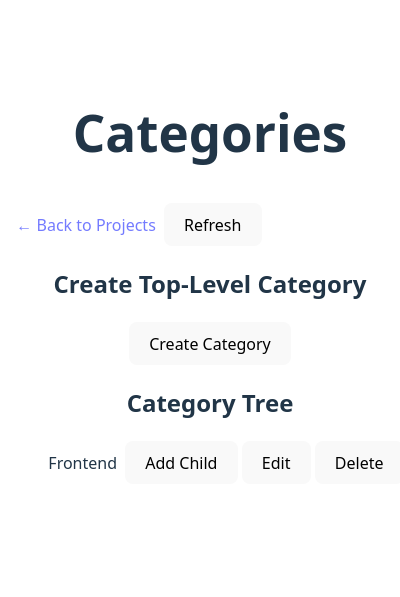
Test case: Categories page › creates a child category
expect the text "Frontend" is shown: met, box left=48, top=451, right=117, bottom=475
Note: Click "Add Child" on parent
Click the button with aria-label "Add subcategory to Frontend" at (181, 463), box left=125, top=441, right=238, bottom=484
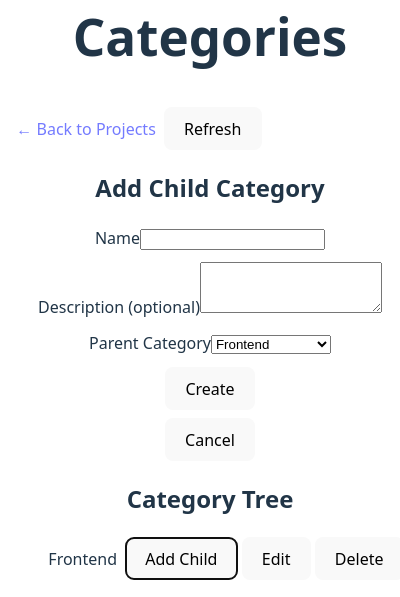
Note: Fill form (parent should be pre-selected)
Type "React" into the field labelled "Name" at (232, 240), box left=140, top=229, right=325, bottom=250
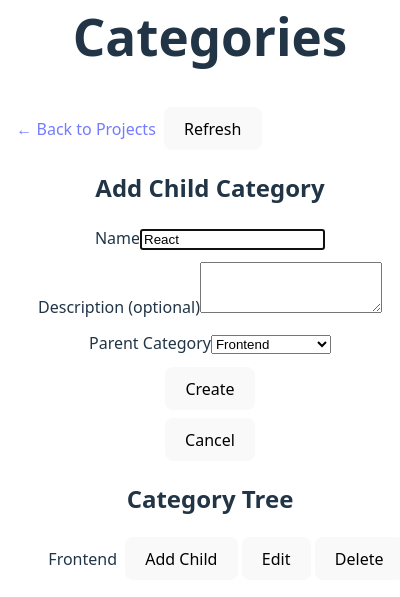
Click the button "Create" at (210, 389), box left=165, top=367, right=255, bottom=410
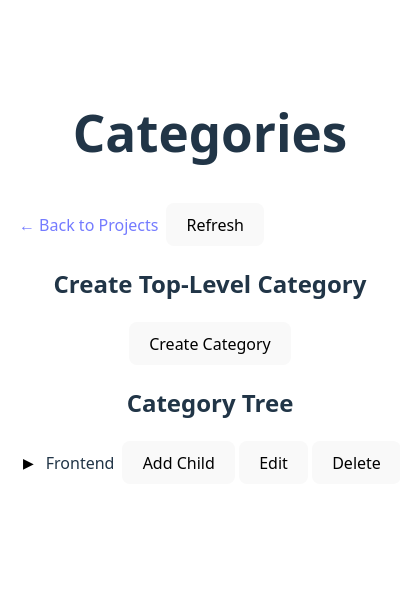
Note: Click to expand (if collapsed)
Click the button named "Expand" at (28, 463), box left=19, top=449, right=38, bottom=476
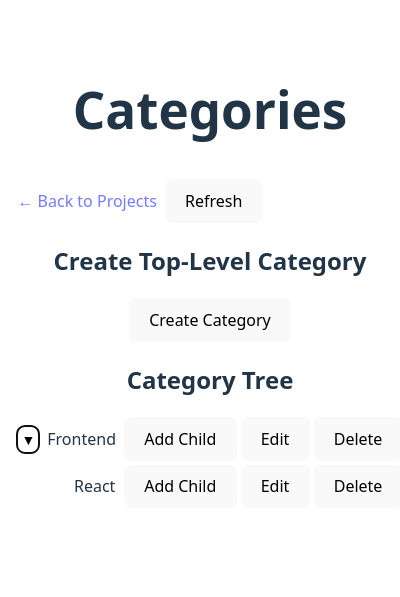
expect the text "React" is shown: met, box left=73, top=474, right=116, bottom=498
